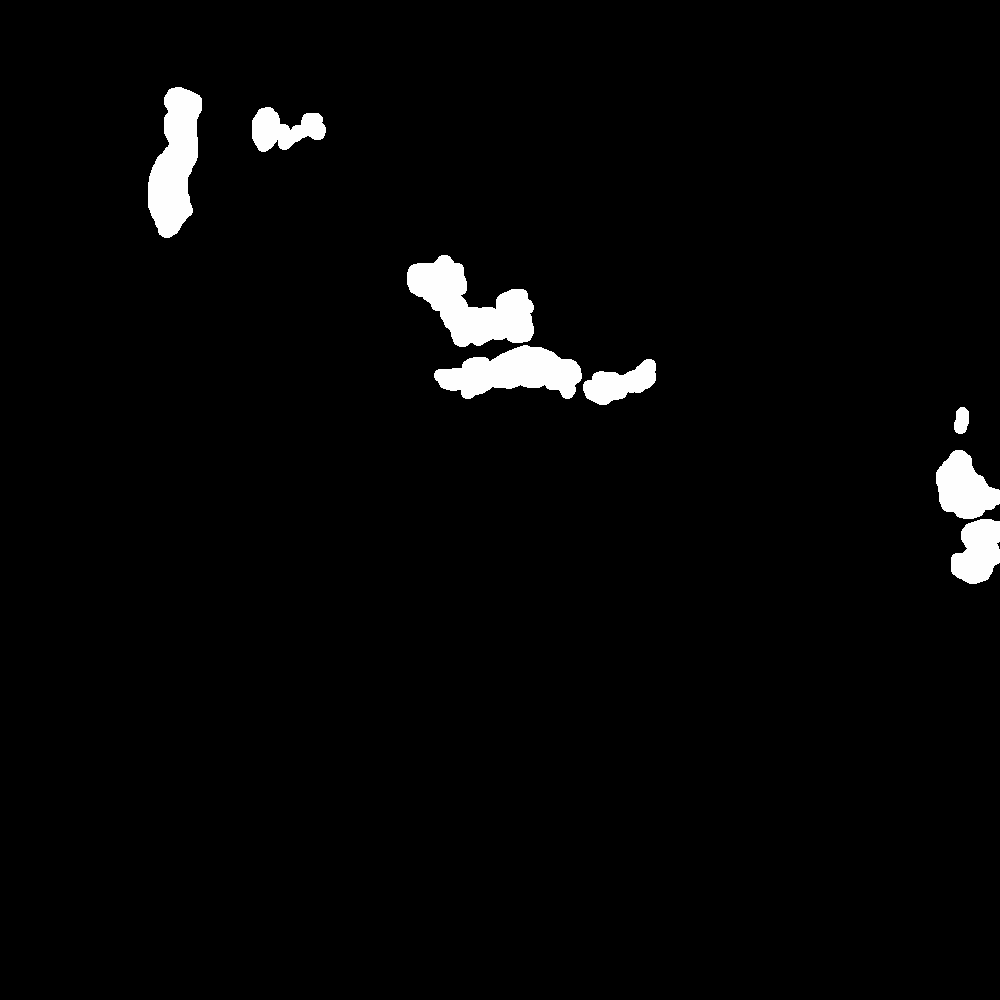illegal: (410, 250, 665, 410), (25, 262, 216, 396), (926, 449, 1000, 591), (148, 88, 205, 236), (790, 266, 901, 341), (234, 380, 306, 482), (249, 102, 333, 152)
